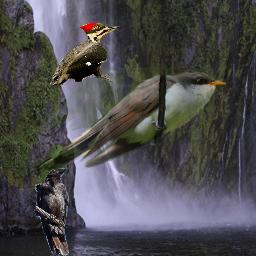Crow: (35, 167, 69, 256)
Cuckoo: (25, 68, 226, 173)
Woodpecker: (50, 23, 122, 86)
